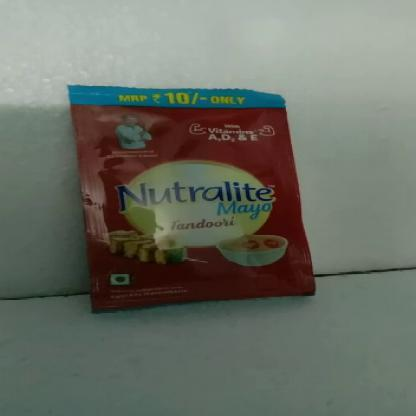Nutralite TANDOORI MAYO 30g: (109, 92, 279, 294)
